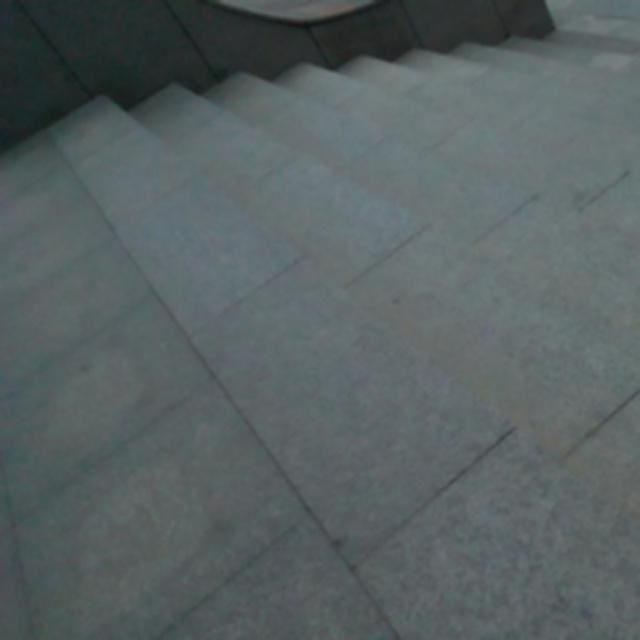stair: (143, 29, 640, 347)
